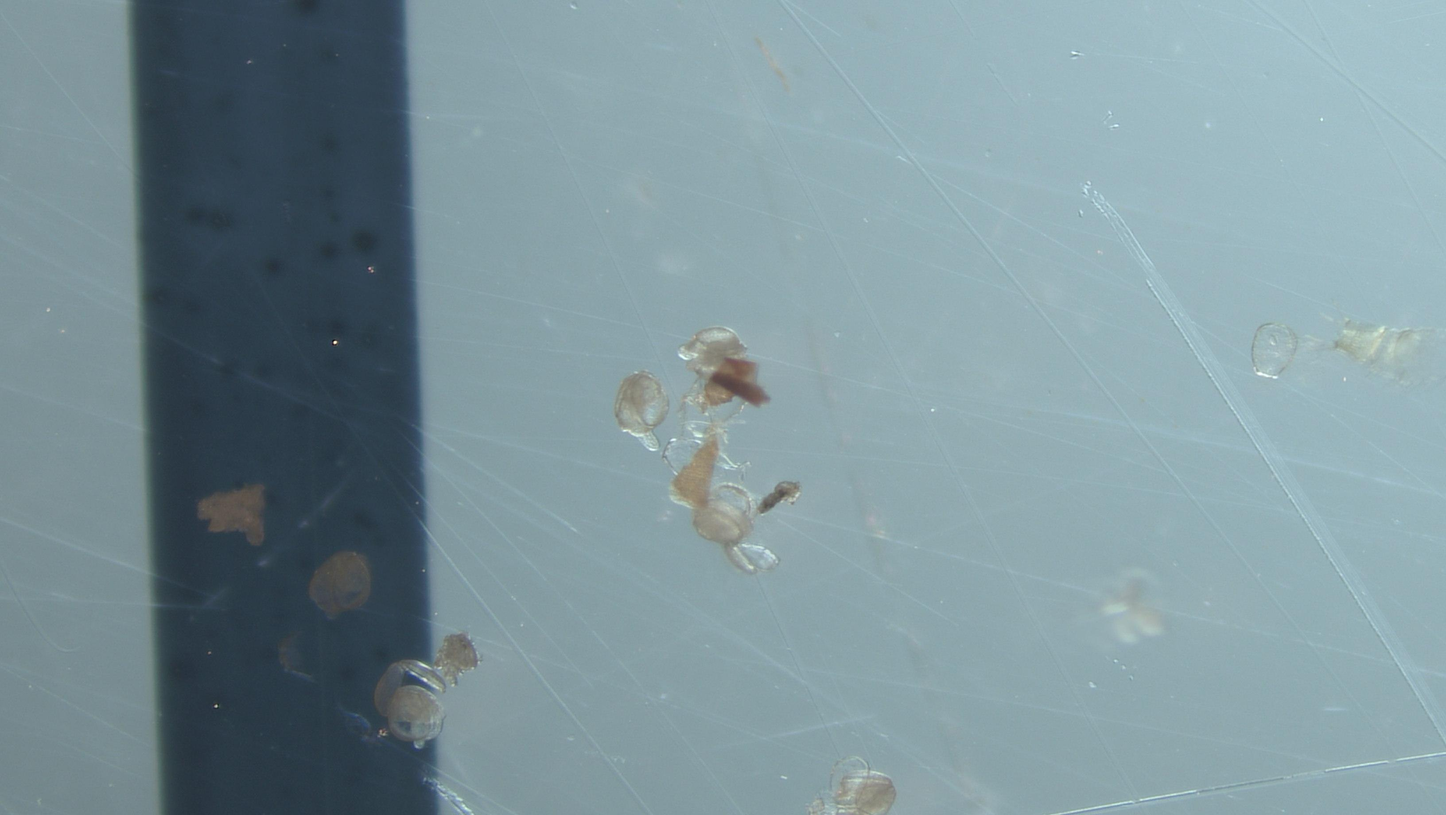dead: (1252, 323, 1299, 379)
live: (614, 371, 669, 452), (310, 552, 372, 618), (693, 487, 755, 547), (387, 686, 445, 748)
